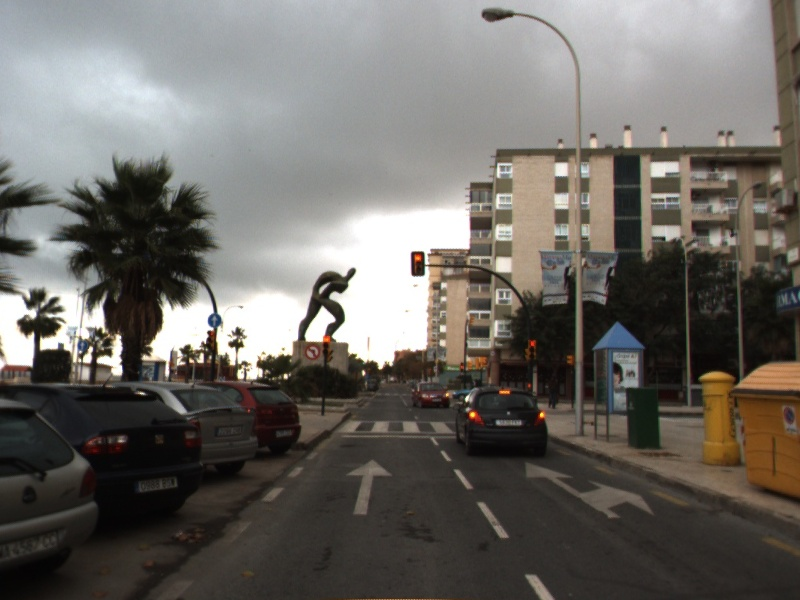STRAIGHT: (344, 457, 395, 517)
STRAIGHT_RIGHT: (523, 460, 657, 520)
